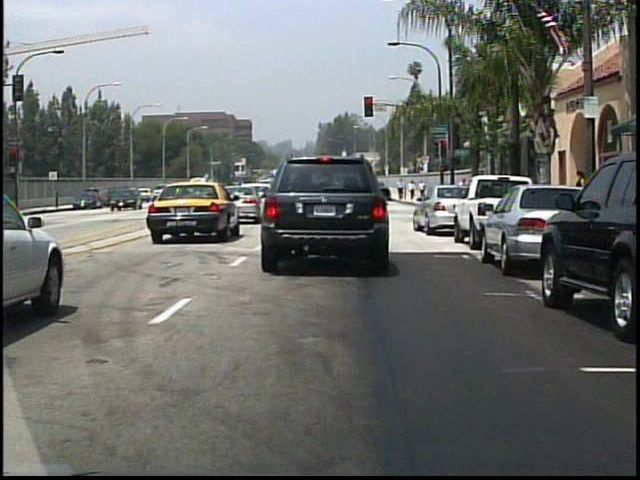person: (454, 176, 473, 217), (571, 167, 588, 188), (419, 179, 428, 200), (398, 177, 406, 200), (409, 179, 417, 202)
